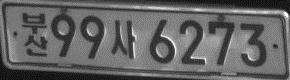2: (179, 19, 205, 64)
3: (240, 22, 266, 66)
6: (149, 19, 175, 64)
7: (208, 21, 235, 65)
9: (79, 14, 105, 59), (50, 13, 75, 58)
부산_V: (21, 12, 47, 56)
사: (111, 19, 135, 59)
